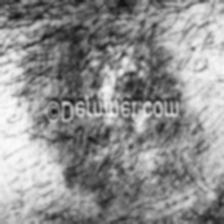Non-Cancerous Skin Condition: (22, 36, 202, 198)
